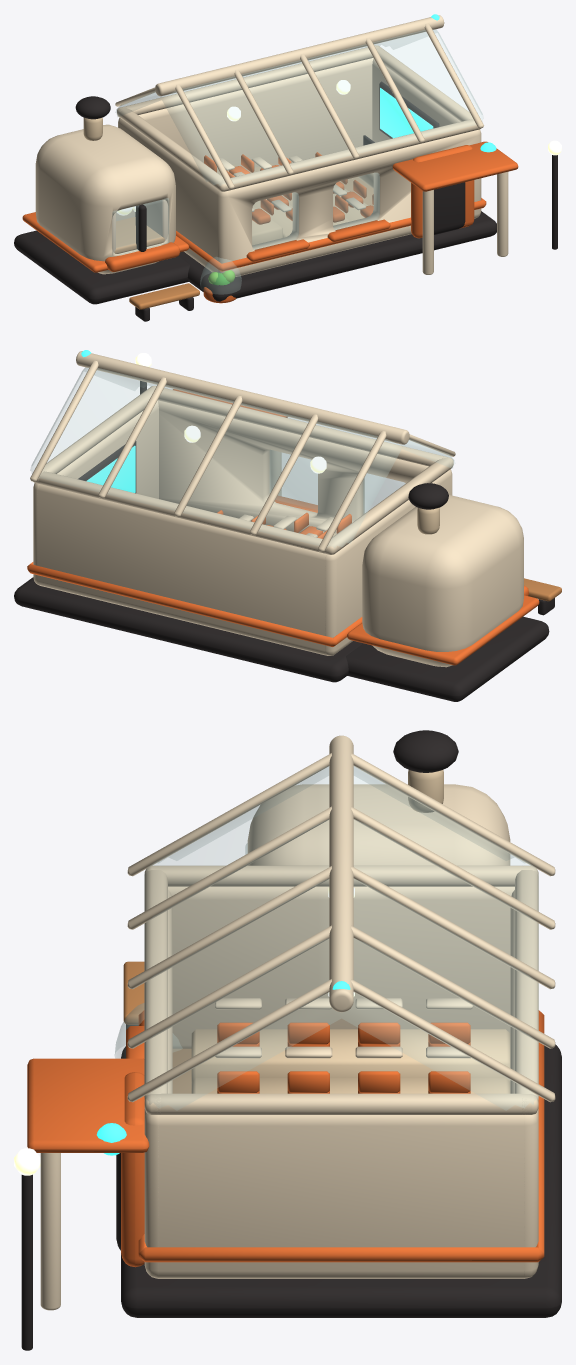
File: university.glb
3 views of the same model, one above another, from view 1: azimuth 30°, elevation 25°; view 2: azimuth 150°, elevation 25°; view 3: azimuth 270°, elevation 25° (orthographic). The views are drawn at different scales.
Visible parts, largest first — view 1: Cube.002, Cube.006, Cube, Cube.007, Cube.016, Cube.015, Cube.001, Cube.091, Cube.095, Sphere; view 2: Cube.002, Cube.006, Cube, Cube.007, Cube.015, Sphere, Cube.016, Cube.095; view 3: Cube.002, Cube.006, Cube.007, Cube, Cube.016, Cube.095.
Boxes of the visible parts, <box> form: Cube.002: <box>35,15,508,276</box>; Cube.006: <box>112,29,483,294</box>; Cube: <box>14,81,557,321</box>; Cube.007: <box>22,141,518,303</box>; Cube.016: <box>83,117,373,245</box>; Cube.015: <box>380,14,496,152</box>; Cube.001: <box>114,177,373,253</box>; Cube.091: <box>112,200,168,252</box>; Cube.095: <box>129,283,199,309</box>; Sphere: <box>116,80,561,215</box>; Cube.002: <box>30,351,523,667</box>; Cube.006: <box>30,367,454,547</box>; Cube: <box>14,381,554,701</box>; Cube.007: <box>27,389,539,665</box>; Cube.015: <box>81,350,135,492</box>; Sphere: <box>135,353,326,473</box>; Cube.016: <box>323,507,439,536</box>; Cube.095: <box>524,578,561,601</box>; Cube.002: <box>40,735,555,1310</box>; Cube.006: <box>114,766,538,1110</box>; Cube.007: <box>27,1010,544,1267</box>; Cube: <box>21,730,561,1350</box>; Cube.016: <box>191,770,510,1093</box>; Cube.095: <box>123,961,144,1024</box>.
Bounding box in the file's own units: 1.9 × 0.789 × 1.17.
